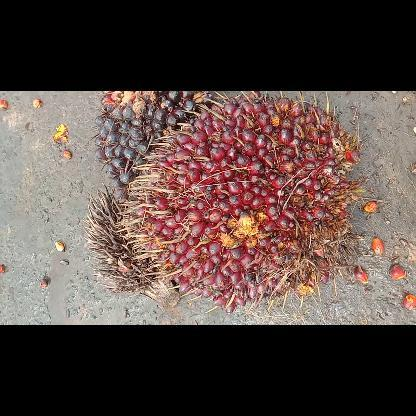Janjang kosong: (82, 184, 180, 310)
TBS masak: (115, 90, 359, 314)
TBS mentah: (95, 91, 215, 199)
